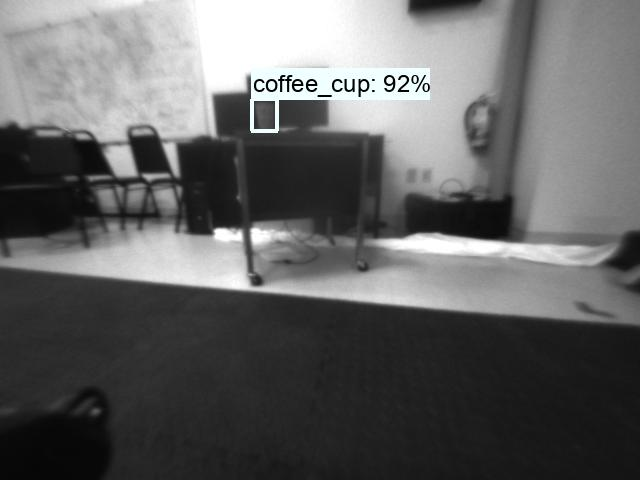coffee_cup: (253, 99, 276, 130)
